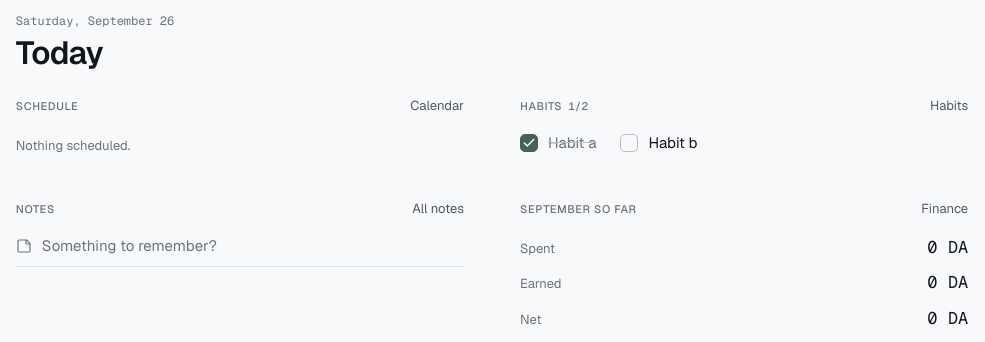
Test: DashboardBoard › habits toggle today's log and show progress
Expected: the element "Habits1/2 Habits Habit a Habit b" is shown, [520,96,968,154]
Click the text "Habit b": (673, 143) [648,132,698,154]
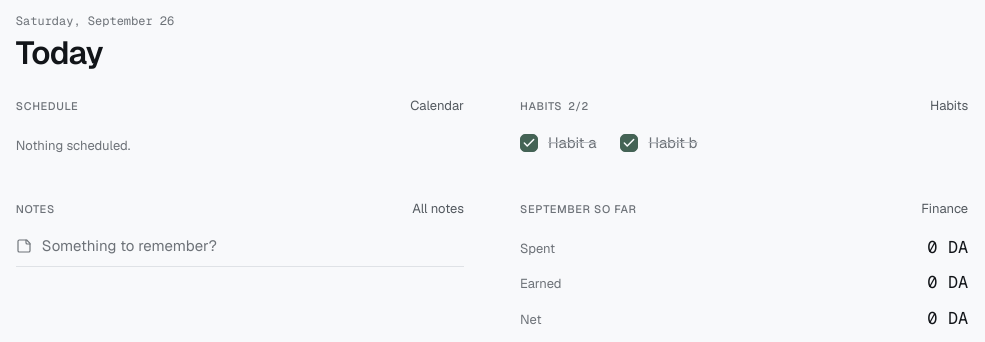
Expected: the element "Habits2/2 Habits Habit a Habit b" is shown, [520,96,968,154]
